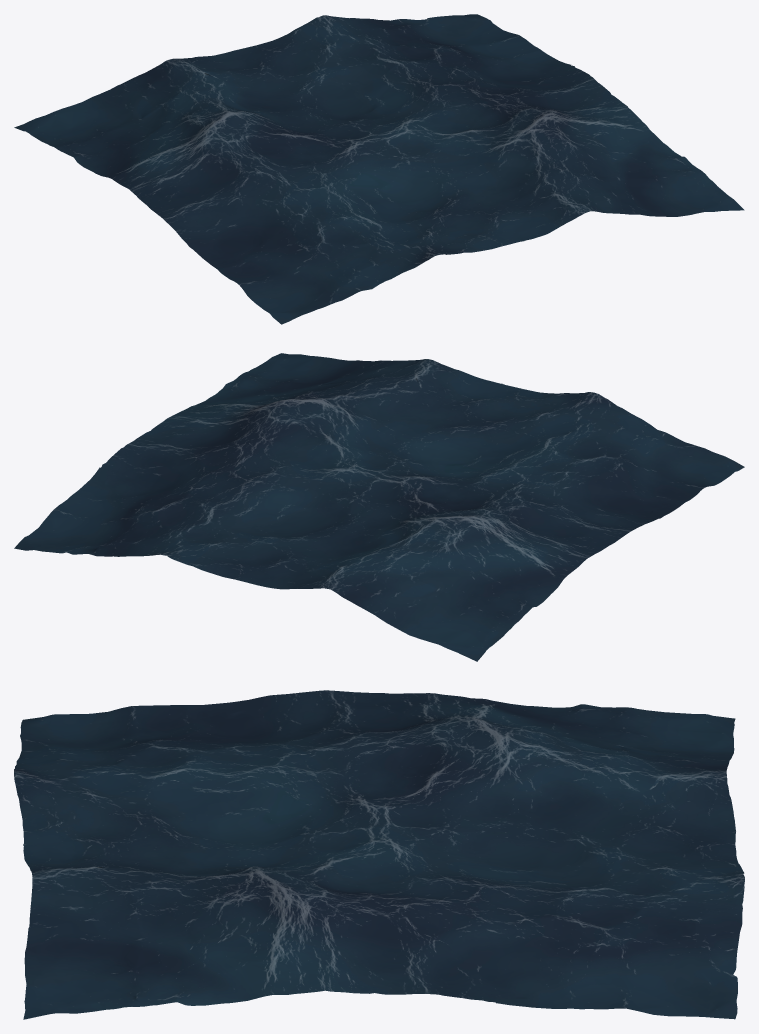
Rendered from oceanfinal.obj.
3 renders of one model, top to bottom at view 1: azimuth 30°, elevation 25°; view 2: azimuth 150°, elevation 25°; view 3: azimuth 270°, elevation 25°, orthographic. The views are drawn at different scales.
Visible parts, largest first — view 1: ocean_reduced_Grid; view 2: ocean_reduced_Grid; view 3: ocean_reduced_Grid.
Boxes of the visible parts, bbox=[...] form: ocean_reduced_Grid: bbox=[14, 14, 744, 324]; ocean_reduced_Grid: bbox=[14, 353, 744, 661]; ocean_reduced_Grid: bbox=[14, 690, 744, 1019].
Size of the model in its own units: 50.89 by 5.2 by 51.28.
1 material, 1 textured.
